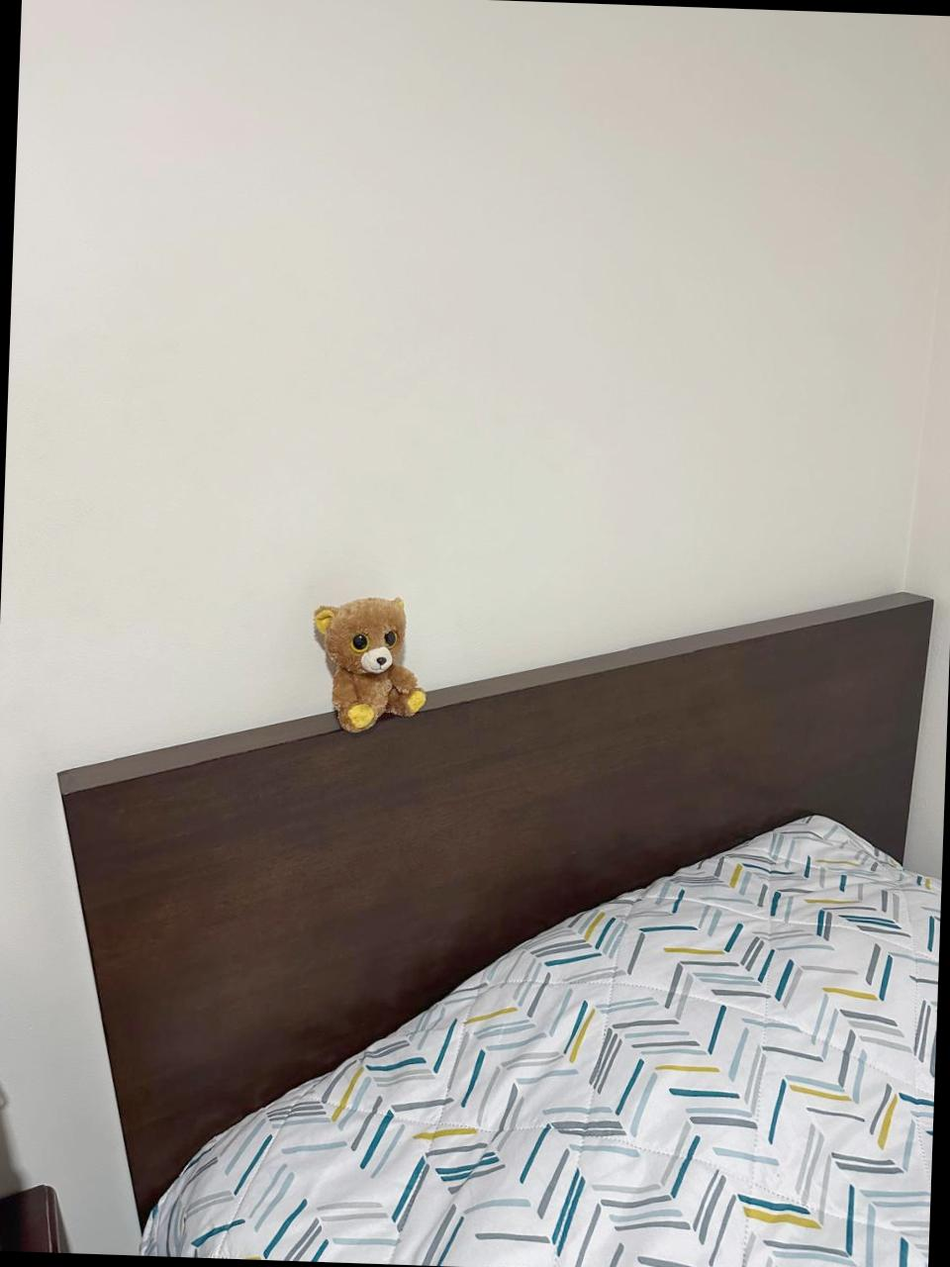peluche_sebastian: (311, 596, 431, 738)
